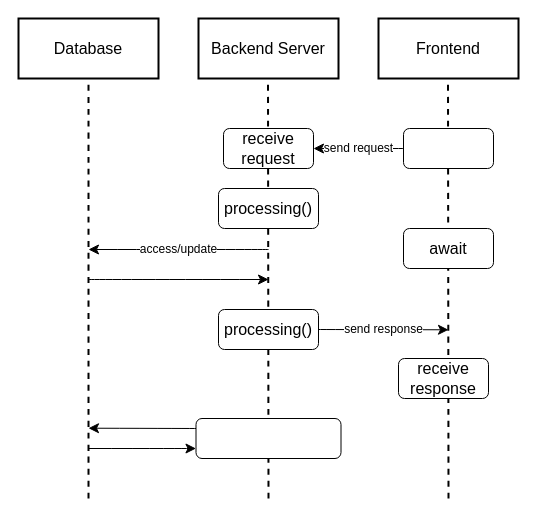
This 536x517 diagram has some shape labels left out. Here are the shapes that lost their labels. From the top down, the centre of each, then its label:
At [448,148]: "request occur".
At [268,438]: "callback_function()".
